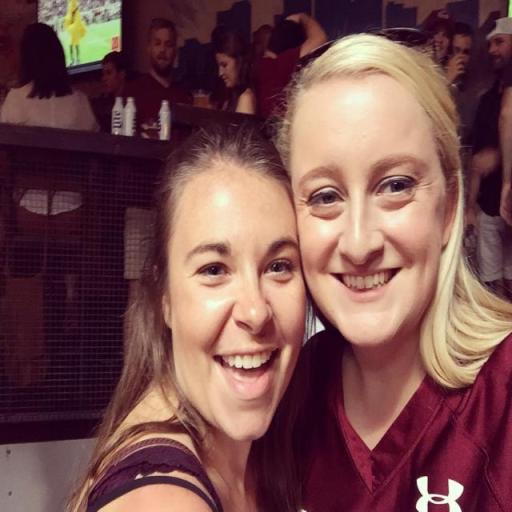Under Armour: (412, 472, 466, 511)
